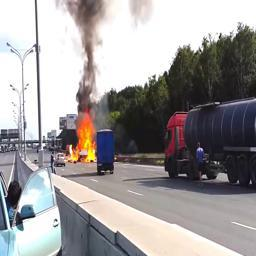fire: (68, 111, 96, 163)
